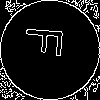F: (25, 25, 72, 59)
